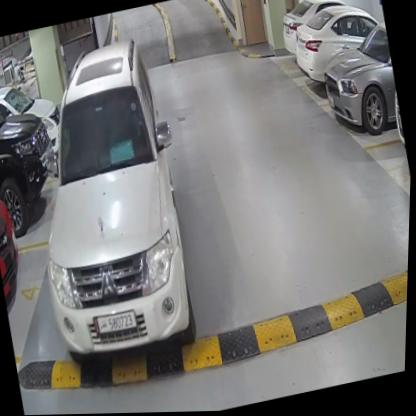np: (95, 310, 139, 335)
